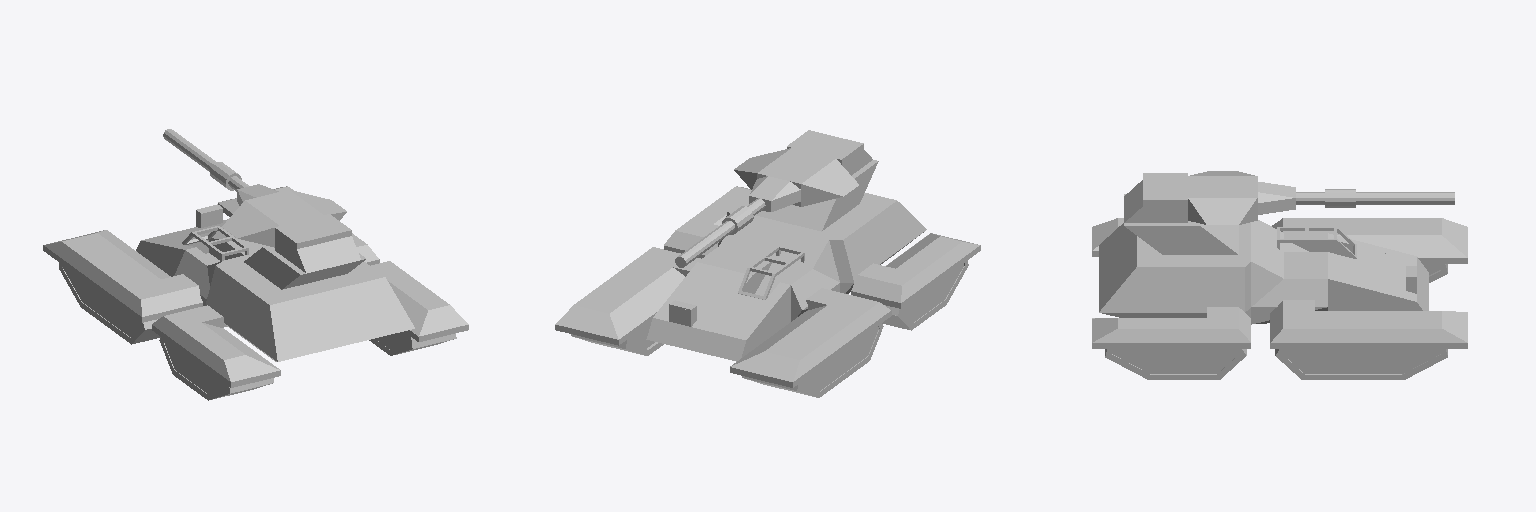
The model's file is Scorpion.obj.
The picture shows the model from 3 angles: view 1: azimuth 30°, elevation 25°; view 2: azimuth 150°, elevation 25°; view 3: azimuth 270°, elevation 25°; orthographic projection.
Visible parts, largest first — view 1: the_node.199_tri_4572_geometry; view 2: the_node.199_tri_4572_geometry; view 3: the_node.199_tri_4572_geometry.
Boxes of the visible parts, x1,y1,x2,y2 form: the_node.199_tri_4572_geometry: [43, 129, 468, 400]; the_node.199_tri_4572_geometry: [555, 130, 980, 397]; the_node.199_tri_4572_geometry: [1092, 171, 1467, 379].
Size of the model in its own units: 7.84 by 4.36 by 10.73.